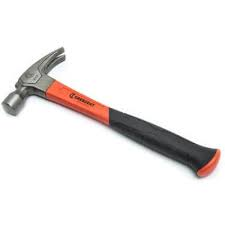hammer: (1, 46, 225, 179)
